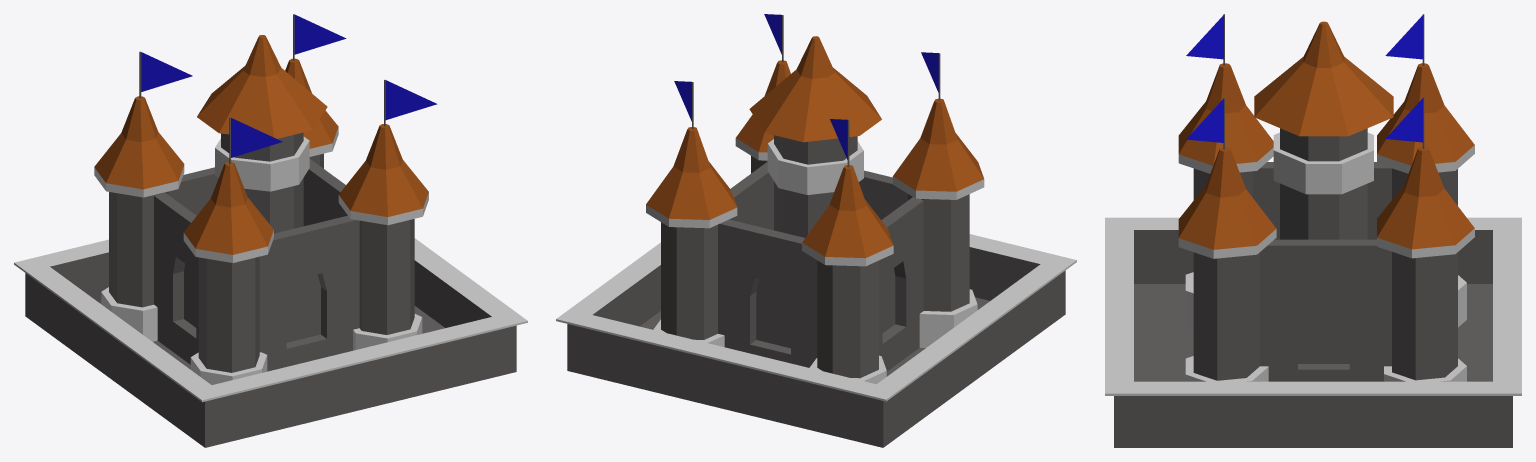
Rendered from castle_main.glb.
3 views of the same model, side by side, from view 1: azimuth 30°, elevation 25°; view 2: azimuth 150°, elevation 25°; view 3: azimuth 270°, elevation 25° (orthographic). The views are drawn at different scales.
Visible parts, largest first — view 1: Cube; view 2: Cube; view 3: Cube.
Part boxes in pixels (x1,y1,x2,y2): Cube: (14,14,527,447); Cube: (556,14,1076,447); Cube: (1105,14,1521,447).
Size of the model in its own units: 4.12 by 3.94 by 4.12.
